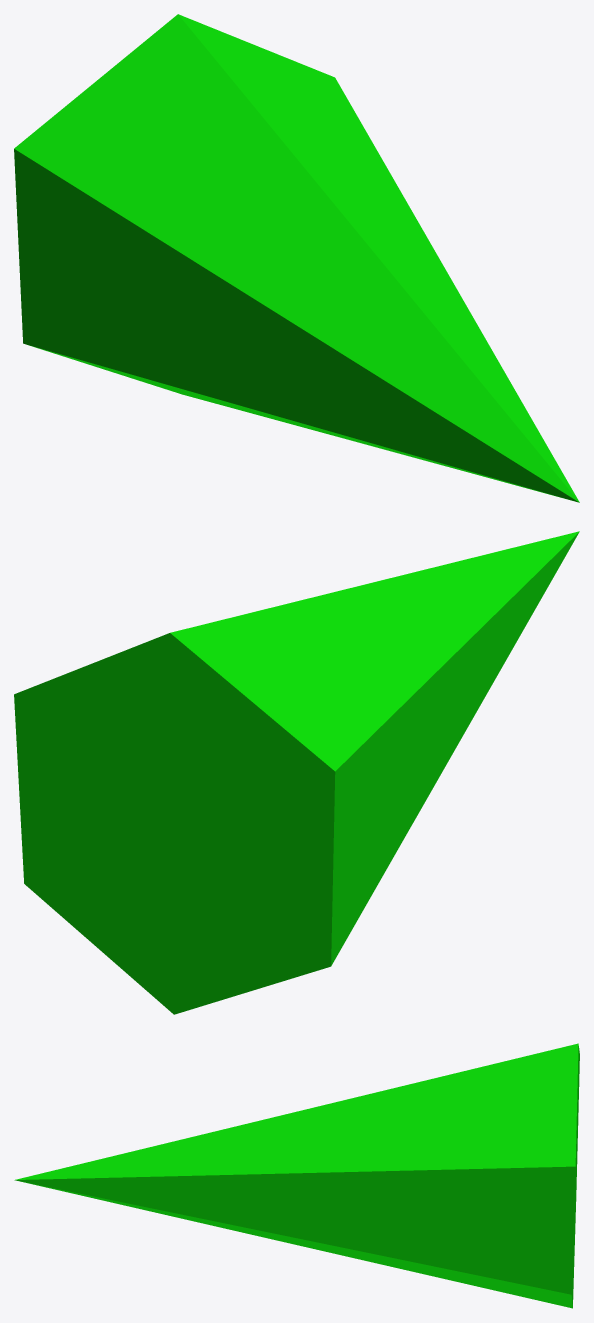
The model's file is bullet.fbx.
3 views of the same model, one above another, from view 1: azimuth 30°, elevation 25°; view 2: azimuth 150°, elevation 25°; view 3: azimuth 270°, elevation 25° (orthographic). The views are drawn at different scales.
Parts seen in each view (by area): view 1: bullet; view 2: bullet; view 3: bullet.
Boxes of the visible parts, x1,y1,x2,y2 form: bullet: (14, 14, 579, 502); bullet: (14, 531, 579, 1014); bullet: (14, 1043, 579, 1308).
Bounding box in the file's own units: 24.25 × 27.5 × 53.23.
